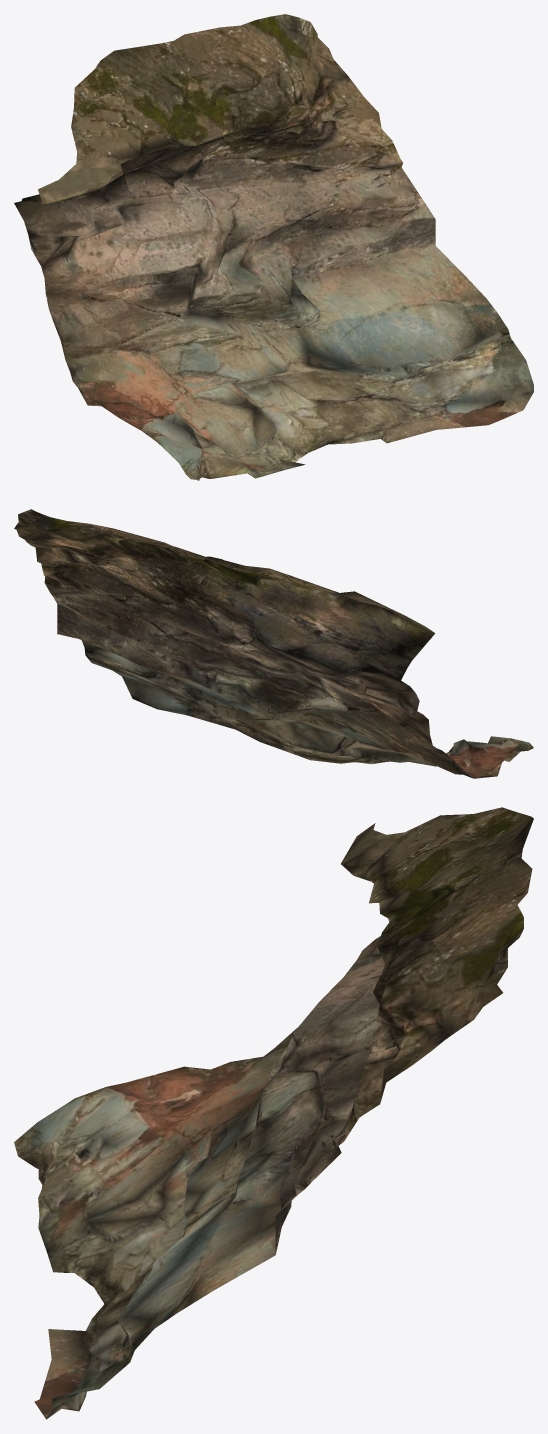
Rendered from rock_face_1.glb.
3 renders of one model, top to bottom at view 1: azimuth 30°, elevation 25°; view 2: azimuth 150°, elevation 25°; view 3: azimuth 270°, elevation 25°, orthographic. The views are drawn at different scales.
Parts seen in each view (by area): view 1: rock_face_01; view 2: rock_face_01; view 3: rock_face_01.
Part boxes in pixels (x1=…): rock_face_01: x1=14, y1=14, x2=533, y2=480; rock_face_01: x1=14, y1=509, x2=533, y2=778; rock_face_01: x1=14, y1=807, x2=533, y2=1419.
Size of the model in its own units: 4.94 by 3.56 by 3.82.
Materials: 1 (1 with a texture image).
